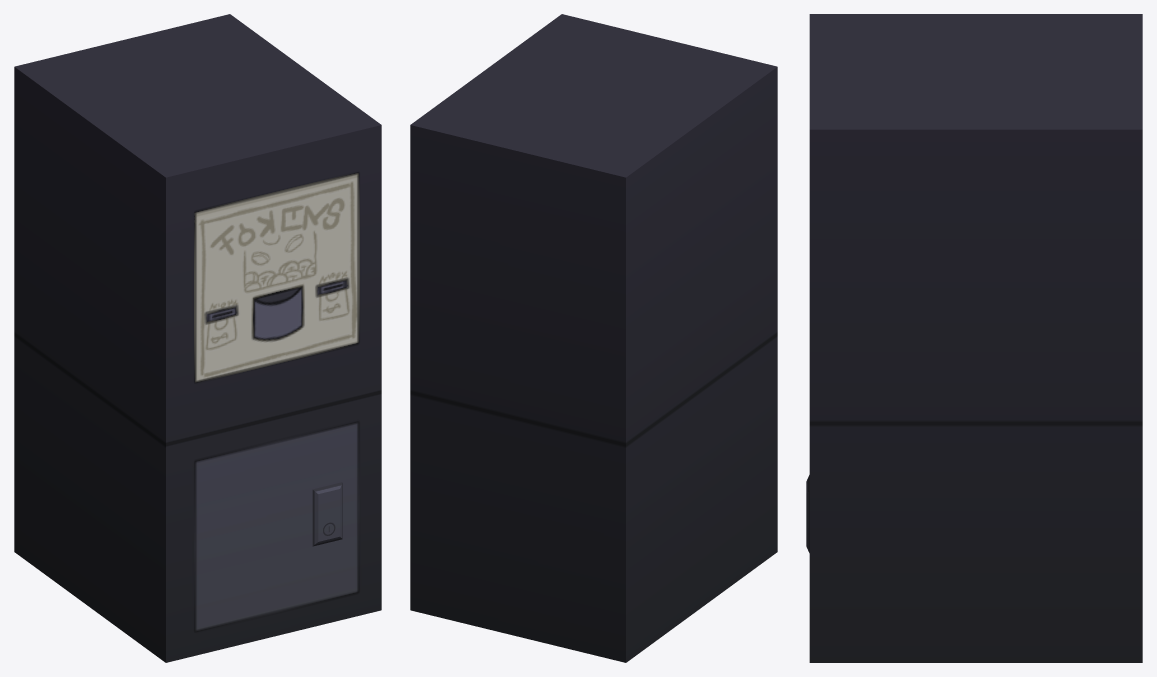
The model's file is Token machine.fbx.
3 renders of one model, left to right at view 1: azimuth 30°, elevation 25°; view 2: azimuth 150°, elevation 25°; view 3: azimuth 270°, elevation 25°, orthographic. The views are drawn at different scales.
Parts seen in each view (by area): view 1: Token machine; view 2: Token machine; view 3: Token machine.
Part boxes in pixels (x1,y1,x2,y2): Token machine: (14, 14, 381, 662); Token machine: (410, 14, 777, 662); Token machine: (806, 14, 1142, 662).
Bounding box in the file's own units: 1.07 × 2.31 × 1.32.
Materials: 1 (1 with a texture image).
